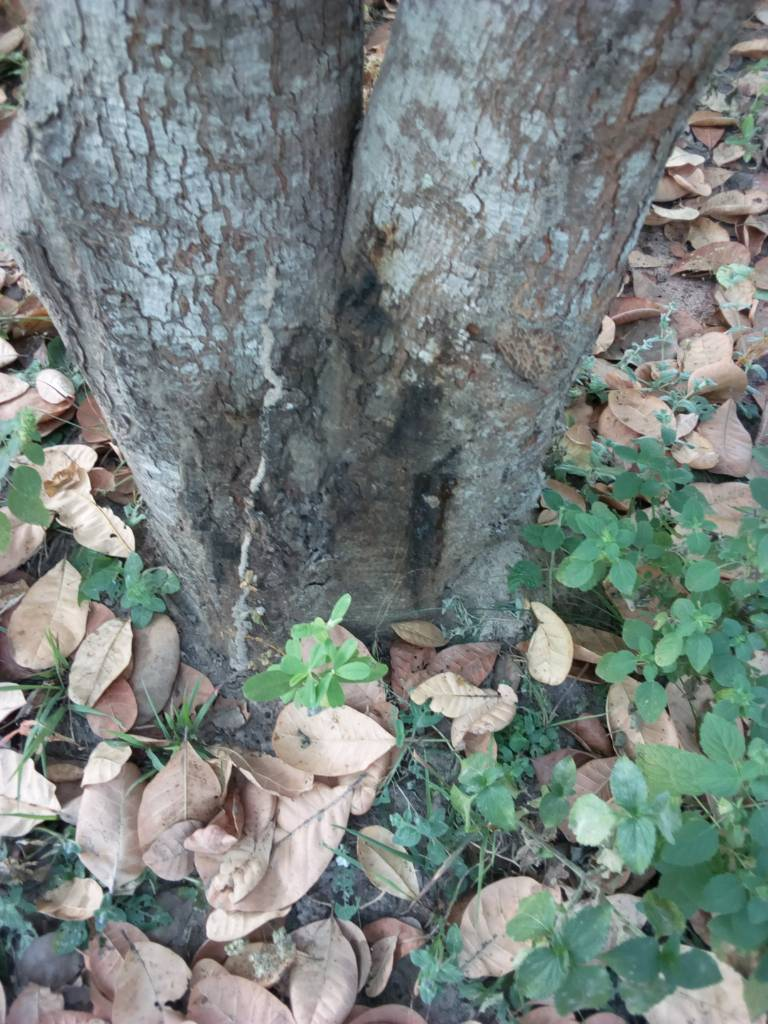Gommose: (200, 324, 454, 616)
